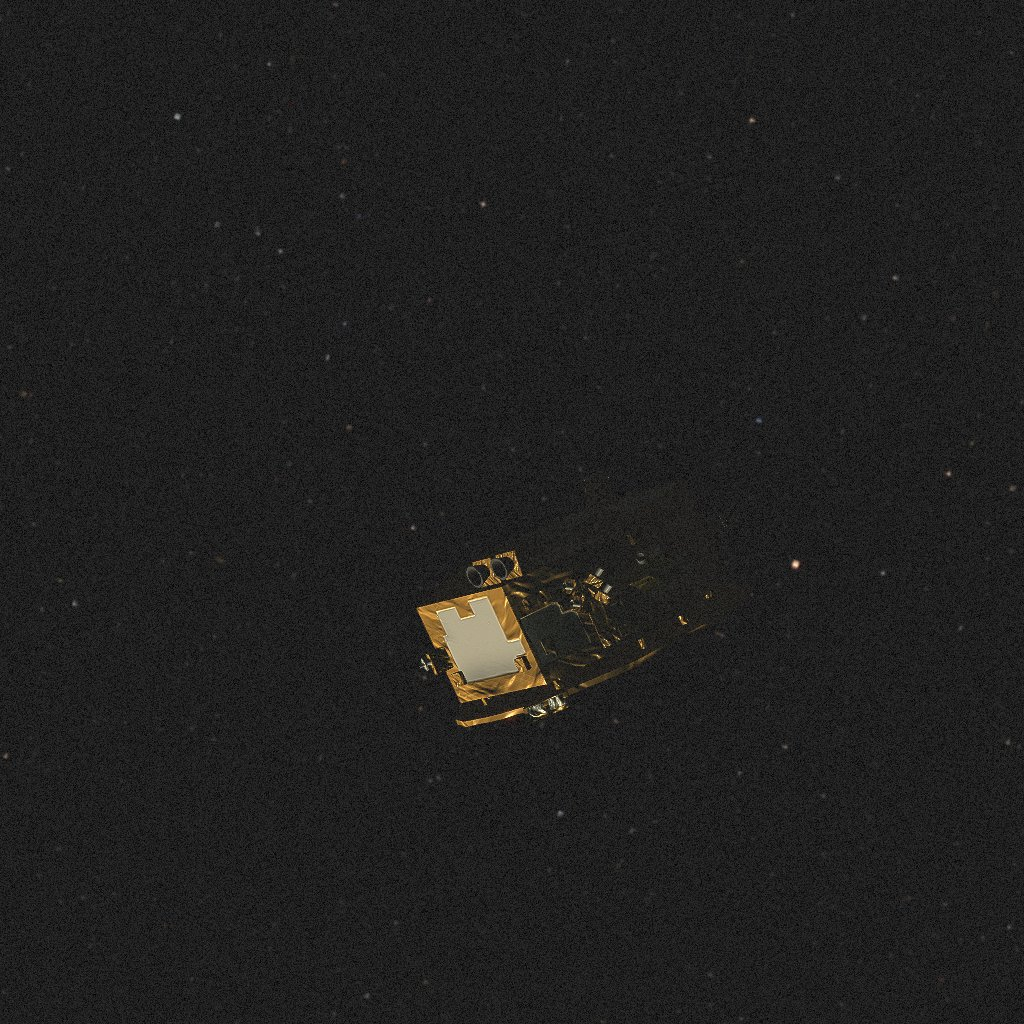lisa_pathfinder: (417, 475, 752, 727)
